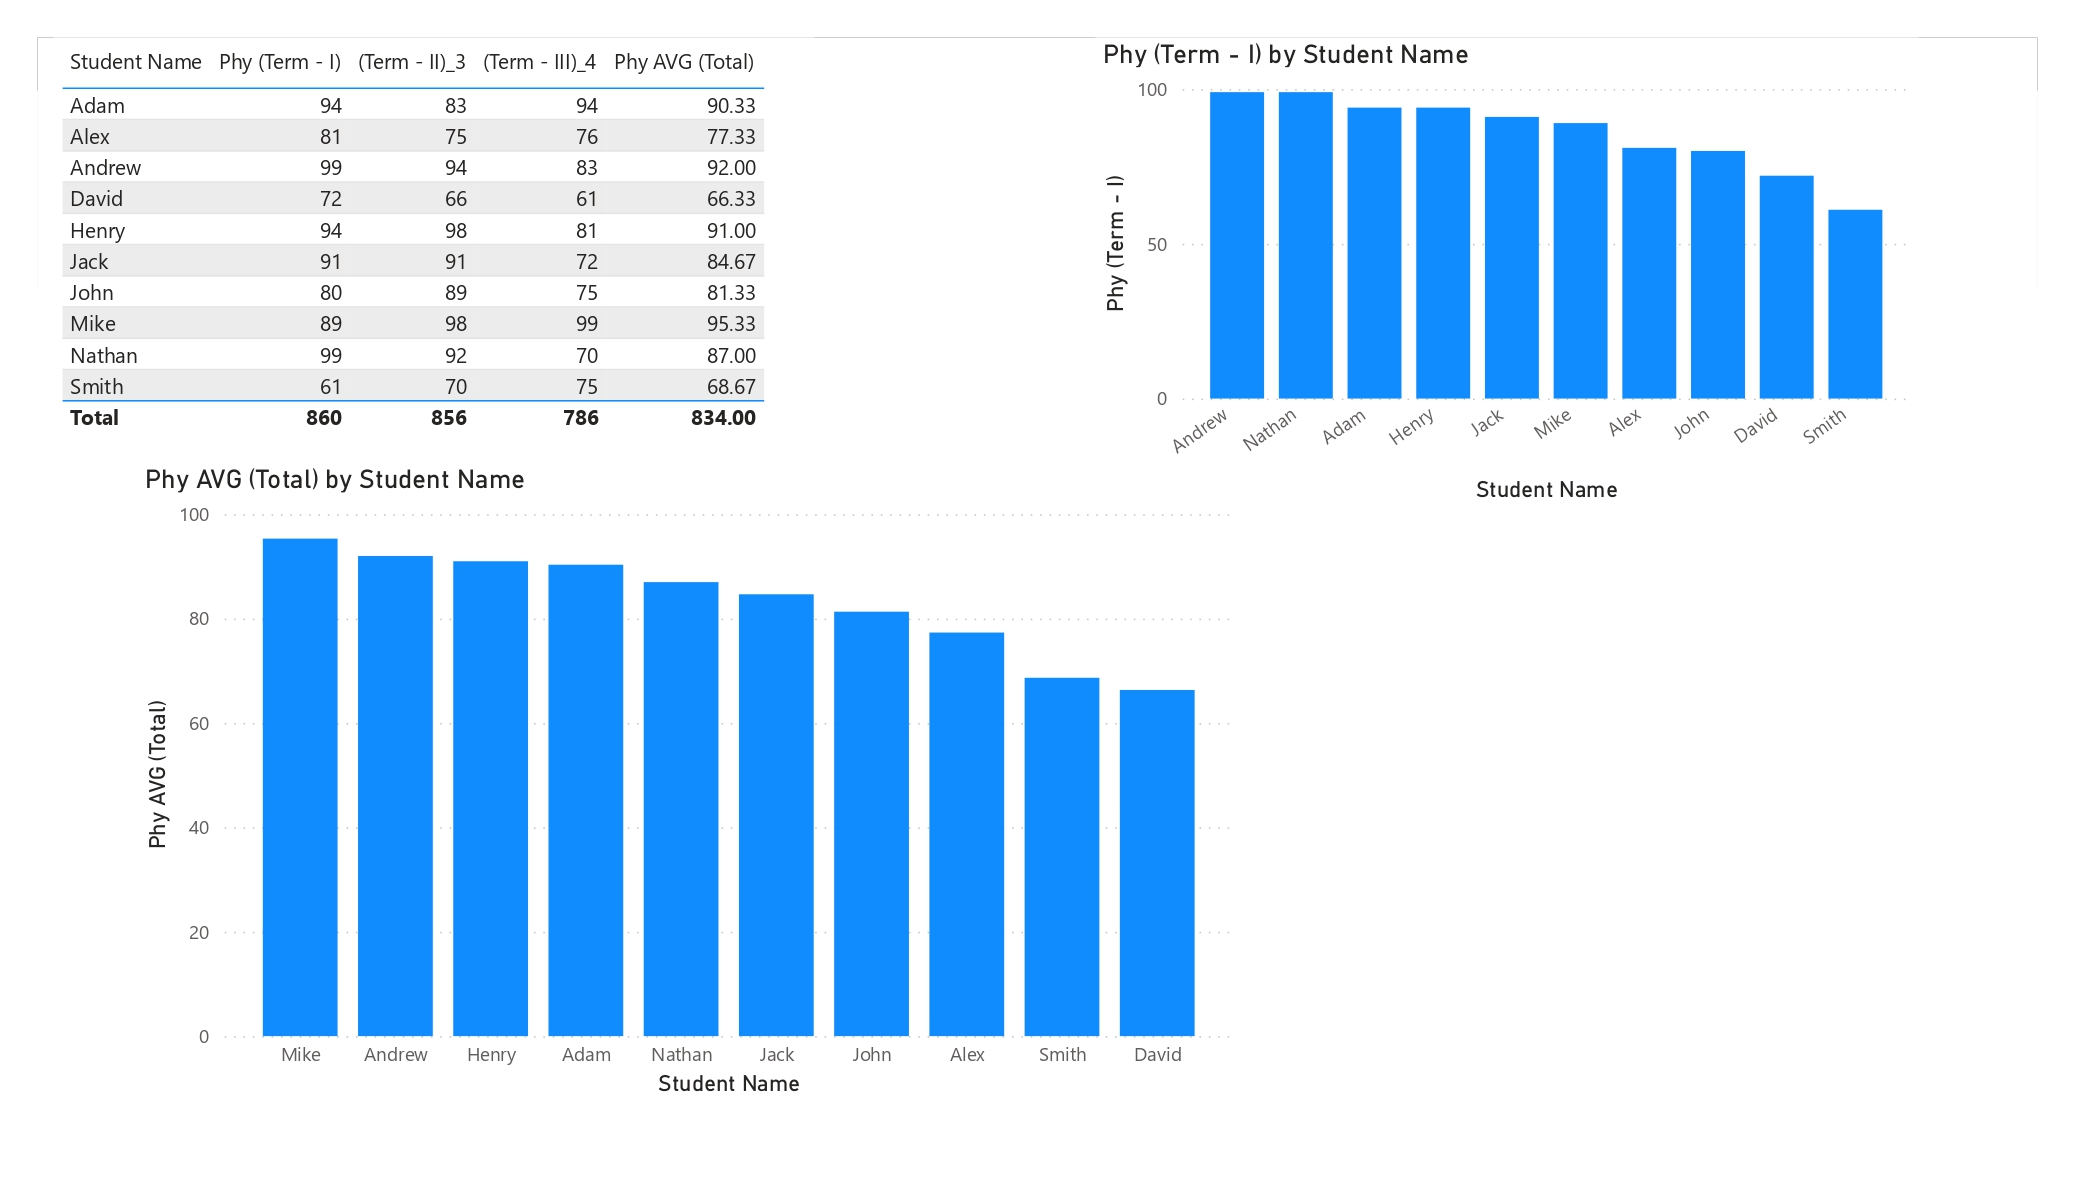

The page's visual inventory and layout, read from the dashboard file:
{"tool":"powerbi","page":{"name":"Exam Report for Phycis ","canvas":[1280,720],"ordinal":2},"visuals":[{"type":"tableEx","fields":{"Values":["student report.Student Name","student report.Phy      (Term - I)","student report.(Term - II)_3","student report.(Term - III)_4","student report.Phy AVG (Total)"]},"box":[10.1,0,487.1,347.7],"z":0},{"type":"columnChart","fields":{"Category":["student report.Student Name"],"Y":["student report.Phy AVG (Total)"]},"box":[63.8,272.1,707.2,409.9],"z":1},{"type":"clusteredColumnChart","fields":{"Category":["student report.Student Name"],"Y":["student report.Phy      (Term - I)"]},"box":[677,0,527.5,302.4],"z":2}]}

Visuals, with their boxes on the page's 1280x720 design canvas (x1, y1, x2, y2). These are canvas units, not pixel positions in the 2075x1200 screenshot, which may show the page scaled, cropped or inside an application window:
tableEx - student report.Student Name x student report.Phy      (Term - I): l=10, t=0, r=497, b=348
columnChart - student report.Student Name x student report.Phy AVG (Total): l=64, t=272, r=771, b=682
clusteredColumnChart - student report.Student Name x student report.Phy      (Term - I): l=677, t=0, r=1204, b=302
